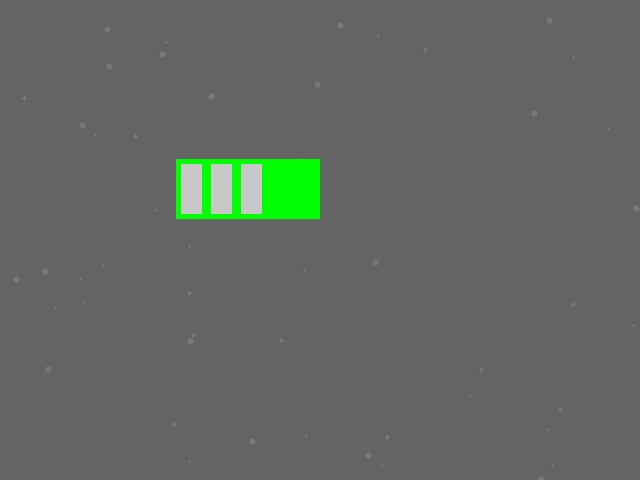bus: (176, 159, 319, 218)
